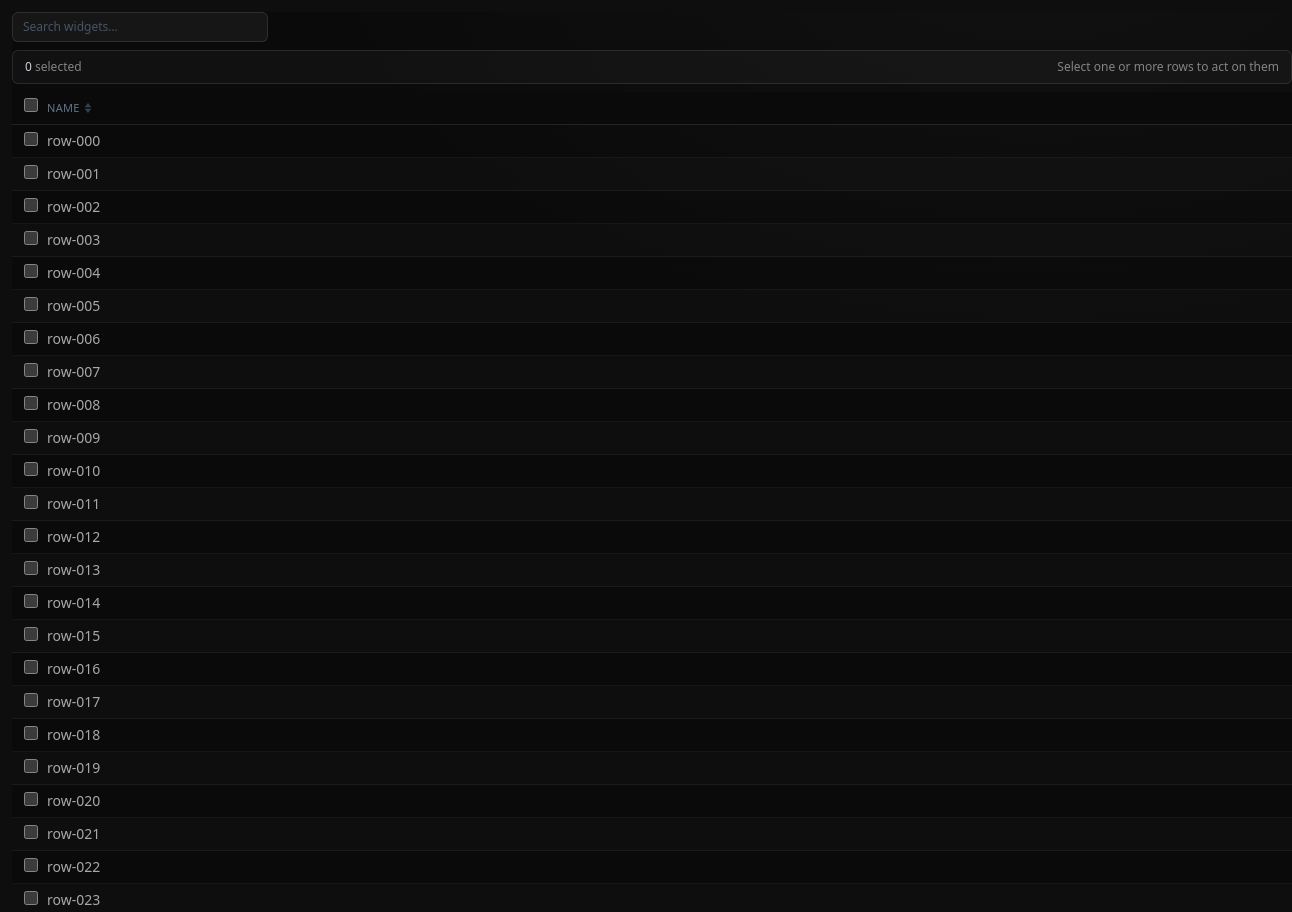
DataTable, selection › ⭐ A SELECTION HIDDEN BY A FILTER IS COUNTED AND SAID OUT LOUD
The image size is (1292, 912).
Click the checkbox named "Select all 25 on this page": (31, 105) 24,98 -> 38,112
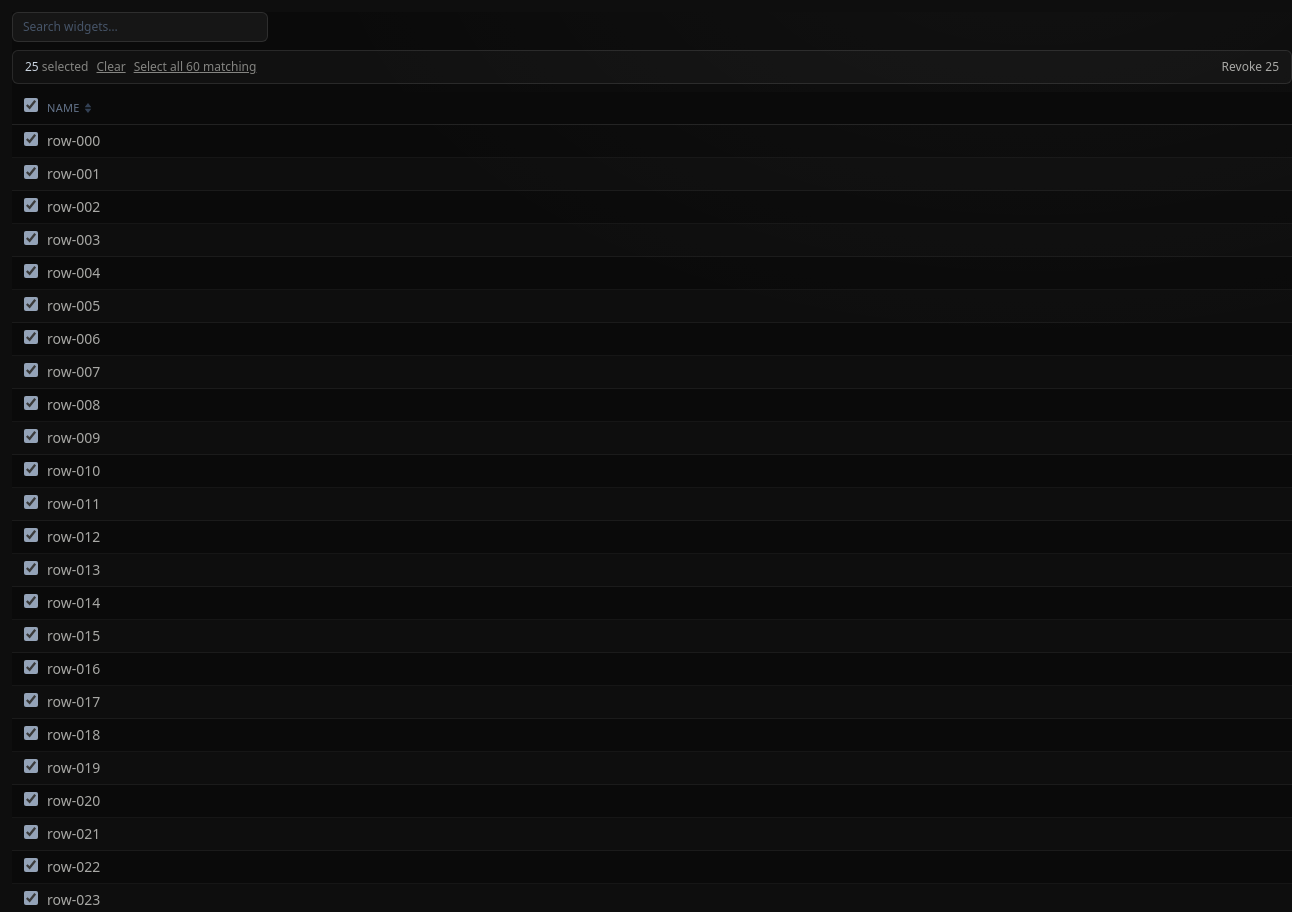
In the search field named "Filter Widgets": (140, 27) 12,12 -> 268,42, type "ana@ex.com"
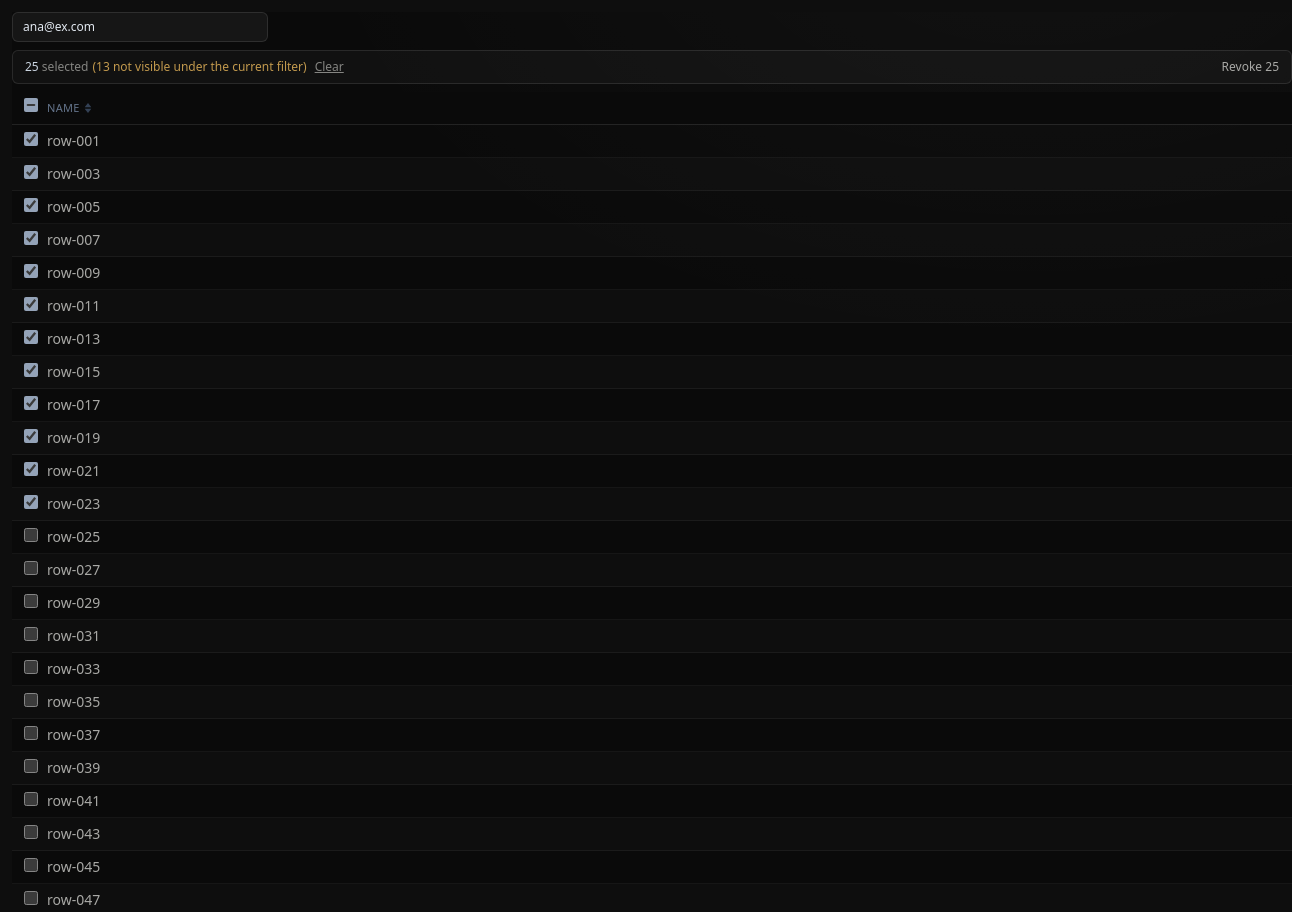
Expected: the text "(13 not visible under the current filter)" is shown, 92,58 -> 307,75
